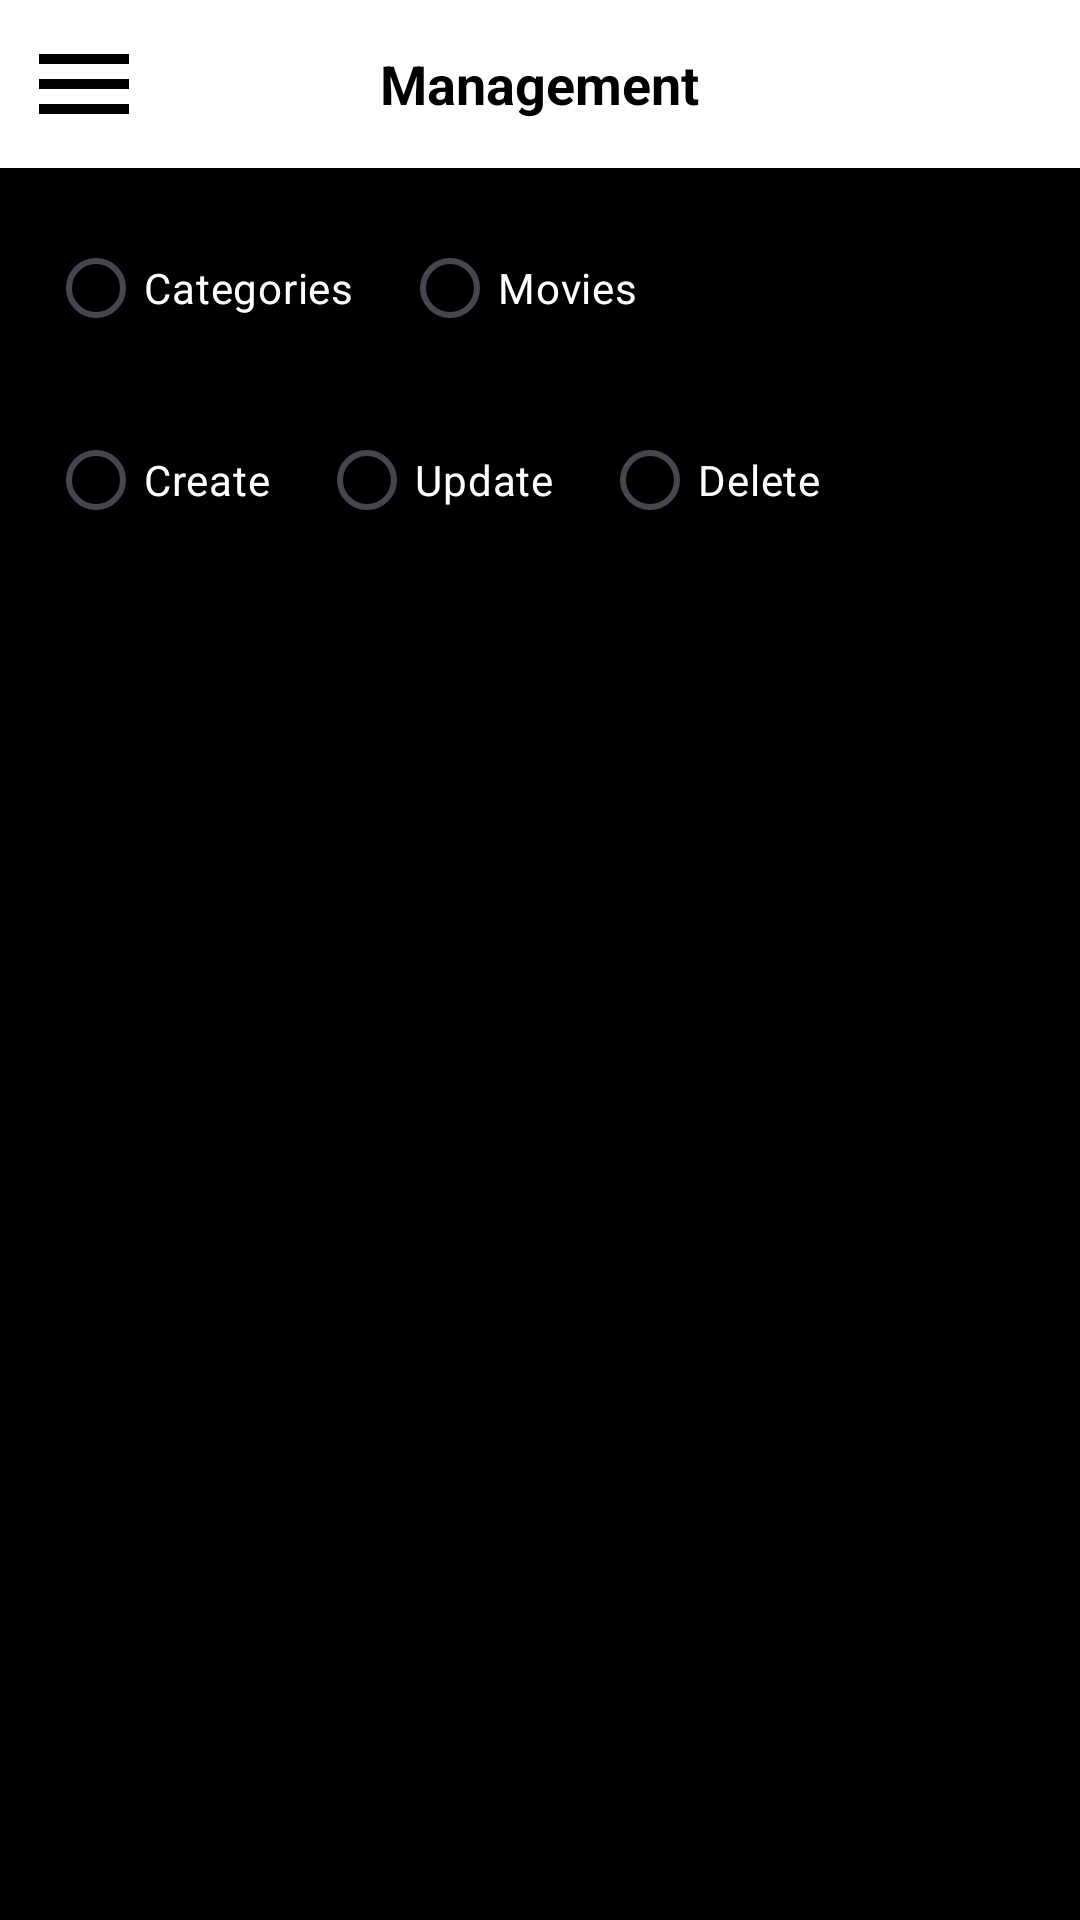

Icons on this 1080w x 1920h Android screen, each with the point to tap as (x,y):
Menu Icon: (84,84)
